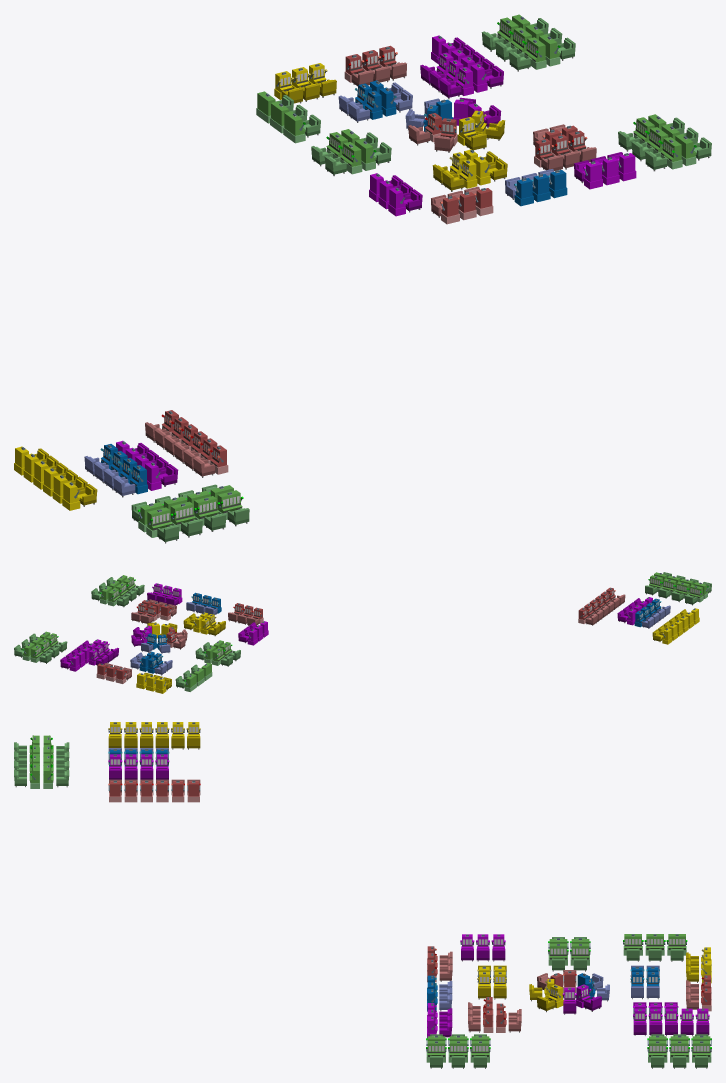
The model's file is vegas_slots.glb.
The picture shows the model from 3 angles, top to bottom: view 1: azimuth 30°, elevation 25°; view 2: azimuth 150°, elevation 25°; view 3: azimuth 270°, elevation 25°; orthographic projection. The views are drawn at different scales.
Parts seen in each view (by area): view 1: Roblox reference geometry; view 2: Roblox reference geometry; view 3: Roblox reference geometry.
Part boxes in pixels (<box>): Roblox reference geometry: <box>14,14,711,543</box>; Roblox reference geometry: <box>14,572,711,693</box>; Roblox reference geometry: <box>14,722,711,1068</box>.
Bounding box in the file's own units: 251 × 8.73 × 222.
